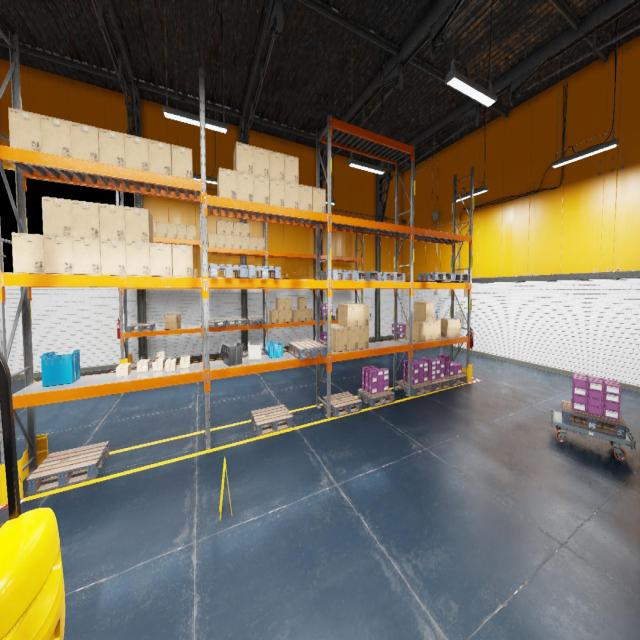box: (8, 107, 42, 152), (11, 232, 45, 273), (40, 114, 72, 157), (70, 121, 100, 162), (42, 196, 72, 237), (43, 235, 74, 274), (71, 200, 100, 239), (98, 128, 125, 166), (125, 206, 153, 242), (73, 238, 101, 274), (99, 203, 125, 241), (124, 134, 149, 172), (100, 239, 126, 275), (148, 139, 172, 175), (126, 241, 150, 276), (149, 242, 173, 276), (171, 144, 193, 179), (172, 244, 193, 277), (234, 142, 254, 174), (217, 167, 237, 199), (253, 146, 269, 177), (237, 172, 253, 202), (338, 304, 358, 327), (254, 175, 269, 204), (331, 325, 347, 352), (270, 150, 284, 180), (284, 154, 298, 183), (406, 320, 425, 341), (270, 178, 284, 206), (284, 181, 298, 209), (440, 318, 460, 337), (414, 302, 433, 321), (352, 304, 368, 326), (299, 184, 312, 211), (416, 320, 433, 340), (313, 186, 325, 212), (163, 314, 181, 329), (347, 327, 358, 350), (152, 351, 164, 371), (358, 327, 368, 349), (116, 363, 131, 377), (136, 359, 150, 372), (433, 320, 441, 340), (165, 358, 176, 372), (177, 224, 187, 239), (167, 223, 177, 238), (157, 222, 167, 237), (187, 224, 196, 240), (180, 356, 190, 369), (217, 220, 226, 234), (208, 233, 217, 247), (269, 310, 278, 323), (234, 235, 242, 249), (217, 234, 225, 248), (297, 298, 306, 310), (276, 298, 285, 310), (292, 309, 300, 322), (226, 221, 233, 235), (257, 238, 265, 250), (250, 237, 257, 250), (242, 237, 249, 250), (242, 223, 249, 236), (234, 222, 241, 235), (226, 235, 233, 248), (285, 310, 292, 322), (285, 297, 291, 310), (306, 308, 312, 320), (300, 310, 306, 322), (279, 310, 285, 322), (153, 221, 157, 236), (336, 308, 338, 319), (194, 270, 196, 276)
forklift: (0, 341, 65, 639)
pallets: (27, 442, 109, 496), (562, 400, 626, 439), (251, 404, 293, 436), (323, 392, 362, 417), (288, 340, 326, 360), (358, 389, 395, 407), (398, 380, 434, 396), (208, 264, 246, 278), (246, 266, 281, 278), (320, 270, 356, 280), (426, 377, 451, 391), (418, 272, 453, 281), (350, 271, 380, 281), (438, 273, 469, 282), (444, 374, 467, 386), (127, 323, 155, 332), (131, 360, 153, 370), (381, 272, 405, 281), (226, 318, 246, 326), (244, 350, 265, 356), (209, 320, 226, 327), (247, 318, 264, 324), (320, 315, 335, 320), (388, 336, 406, 340), (282, 347, 286, 352), (243, 351, 246, 357)
